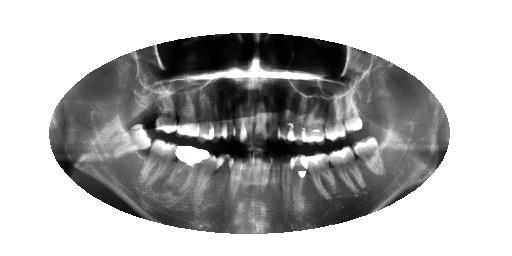i10decay: (225, 152, 248, 209)
i11decay: (210, 146, 239, 207)
i12decay: (195, 141, 220, 208)
i13healthy: (171, 141, 211, 218)
i14healthy: (134, 130, 181, 201)
i15healthy: (107, 114, 157, 170)
i2healthy: (351, 126, 388, 181)
i3healthy: (327, 135, 369, 197)
i4healthy: (297, 143, 345, 207)
i5healthy: (290, 150, 310, 213)
i6healthy: (277, 149, 295, 213)
i7healthy: (268, 150, 283, 204)
i8decay: (256, 146, 275, 205)
i9decay: (241, 151, 259, 206)
u10decay: (230, 92, 249, 145)
u11decay: (218, 84, 237, 145)
u12healthy: (205, 80, 228, 145)
u13healthy: (194, 83, 218, 149)
u14healthy: (175, 86, 201, 143)
u15healthy: (154, 81, 180, 140)
u2healthy: (341, 81, 366, 137)
u3healthy: (319, 87, 348, 143)
u4healthy: (299, 93, 326, 147)
u5healthy: (285, 88, 312, 148)
u6healthy: (277, 83, 298, 149)
u7decay: (267, 84, 284, 145)
u8decay: (253, 93, 271, 151)
u9decay: (236, 93, 260, 147)
